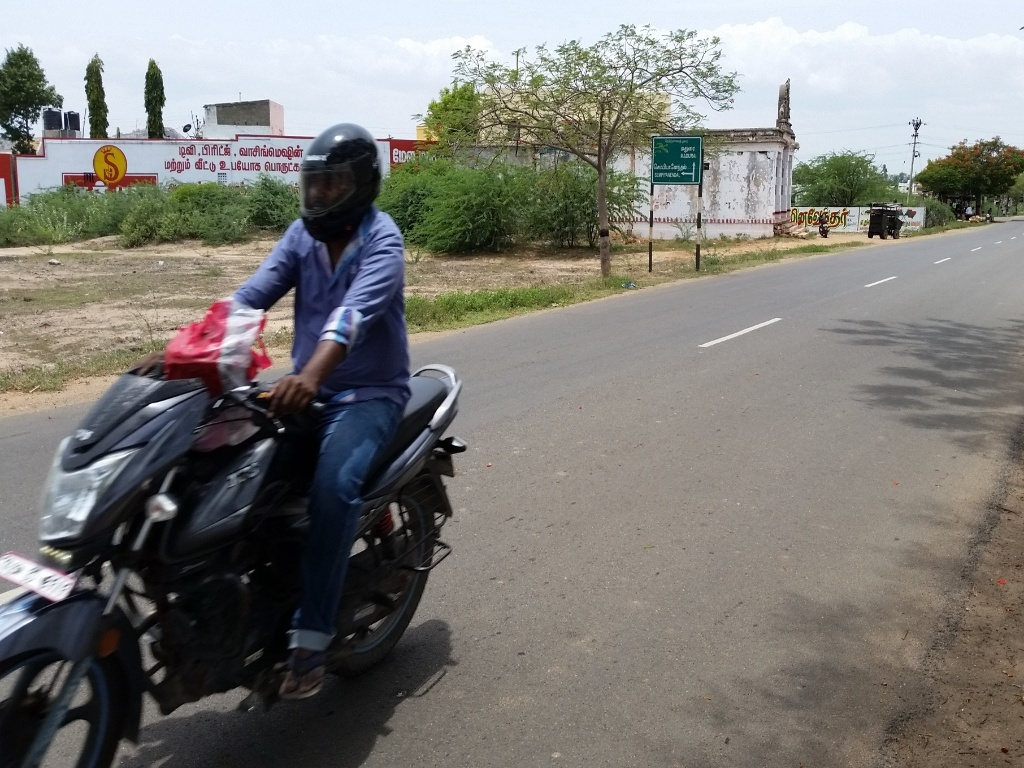biker: (1, 38, 483, 768)
helmet: (285, 100, 400, 253)
